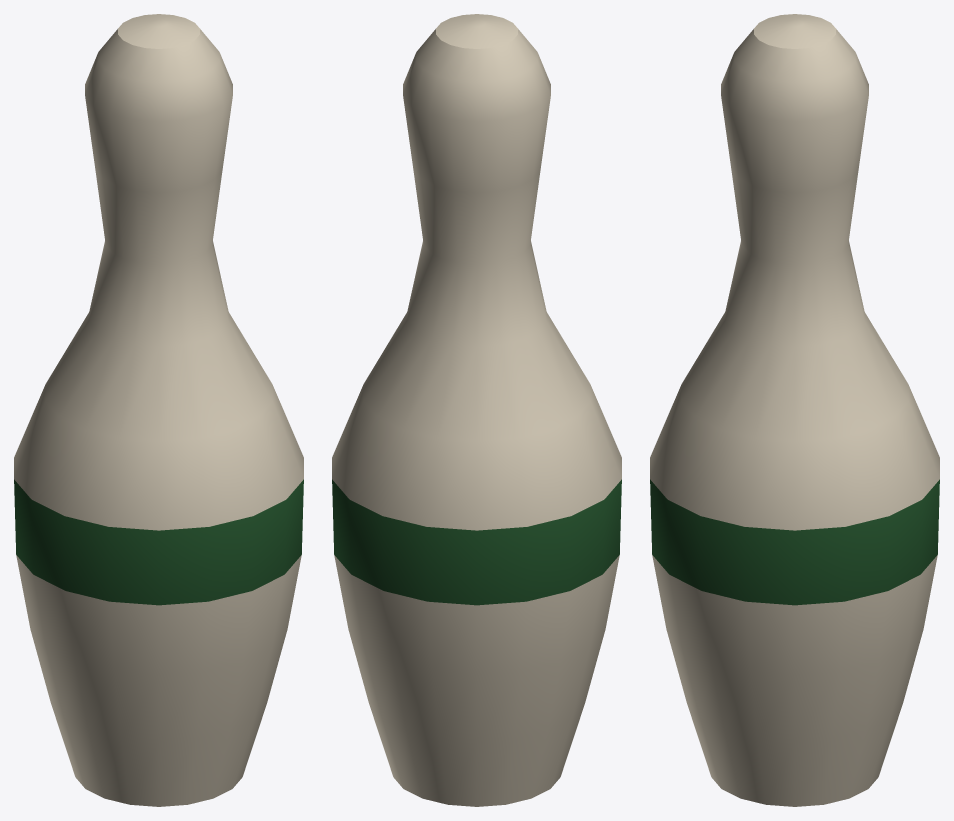
The model's file is F_Bowling_01.fbx.
The picture shows the model from 3 angles, left to right: view 1: azimuth 30°, elevation 25°; view 2: azimuth 150°, elevation 25°; view 3: azimuth 270°, elevation 25°; orthographic projection.
Visible parts, largest first — view 1: F_Bowling_01; view 2: F_Bowling_01; view 3: F_Bowling_01.
Boxes of the visible parts, <box> form: F_Bowling_01: <box>14,14,303,806</box>; F_Bowling_01: <box>332,14,621,806</box>; F_Bowling_01: <box>650,14,939,806</box>.
Bounding box in the file's own units: 14.89 × 41.73 × 14.66.
